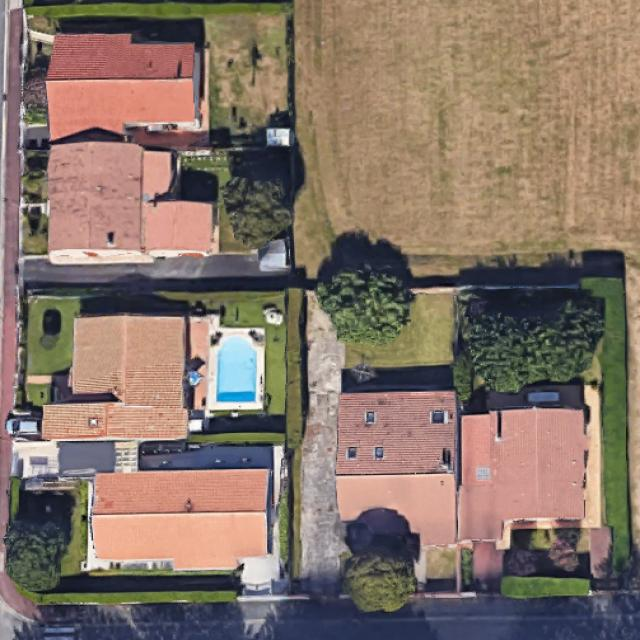maison: (48, 142, 218, 262), (86, 468, 274, 574), (336, 393, 457, 544), (41, 317, 186, 439), (459, 410, 587, 539), (45, 32, 195, 139)
